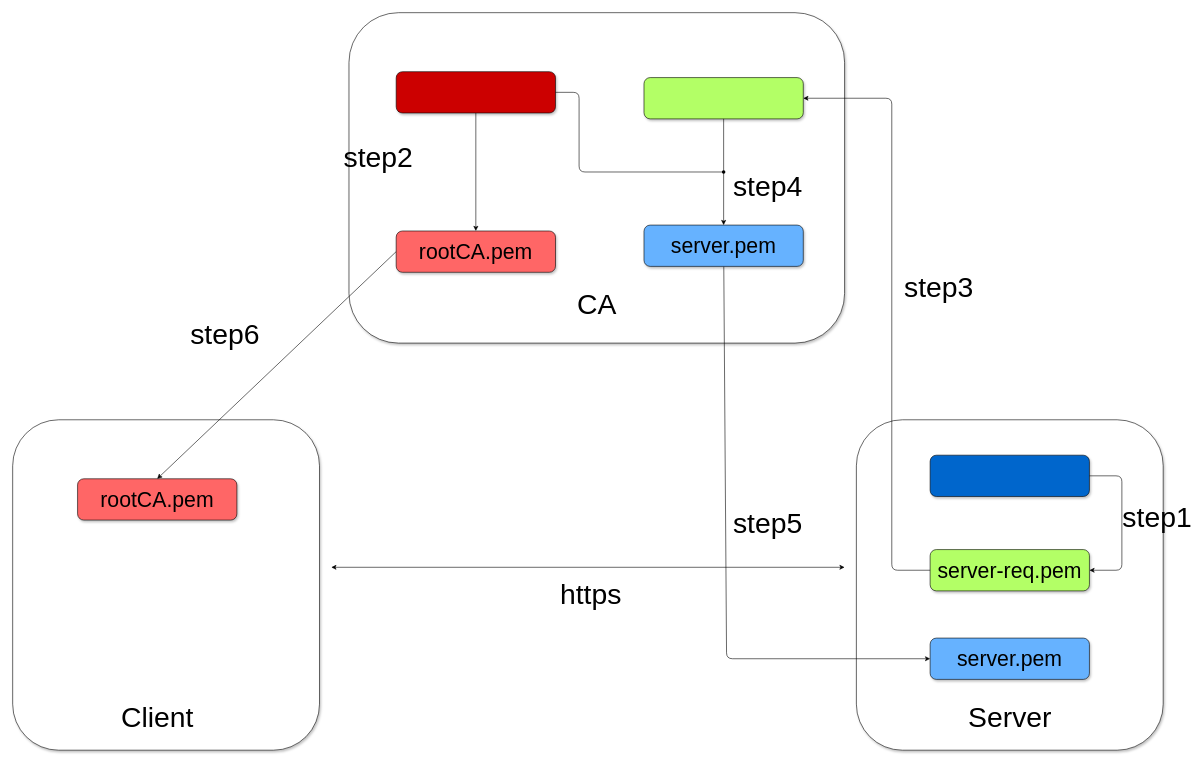
The diagram is 1202 pixels wide and 765 high, and some of its shapes have lost their labels. The centre of each missing label's shape, as x and y in pixels:
rootCA-key.pem: (476,93)
server-key.pem: (1010,476)
server-serq.pem: (724,99)
